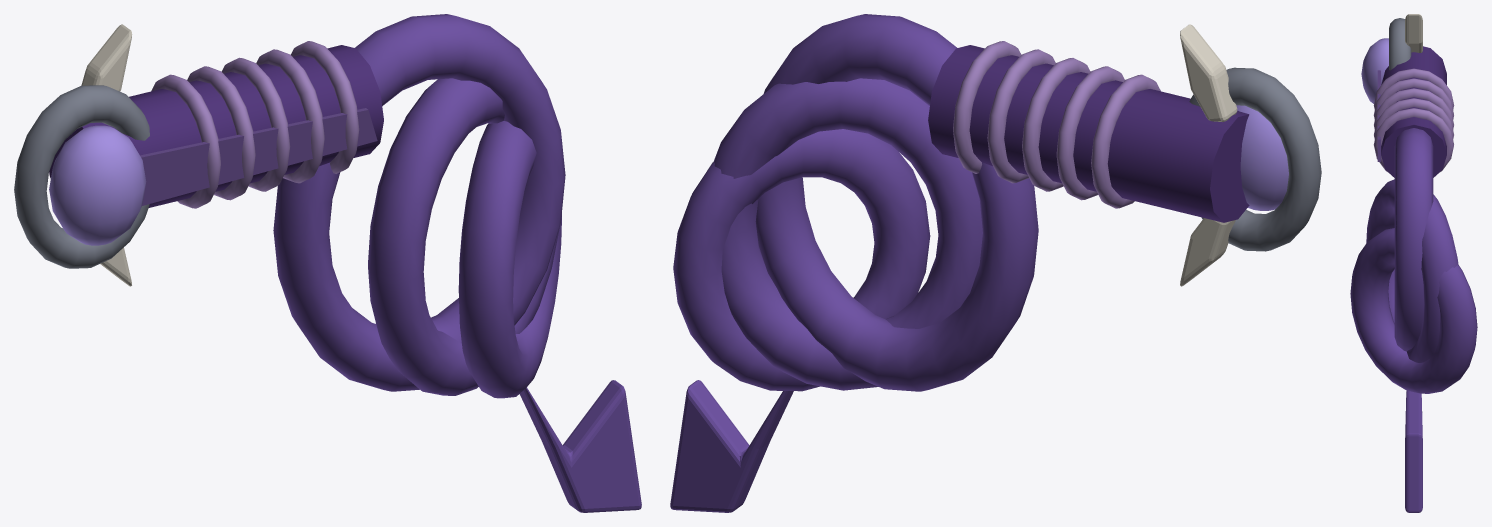
The model's file is wpn_batwhip.glb.
3 renders of one model, left to right at view 1: azimuth 30°, elevation 25°; view 2: azimuth 150°, elevation 25°; view 3: azimuth 270°, elevation 25°, orthographic. The views are drawn at different scales.
Visible parts, largest first — view 1: object 1, torus.003, torus.002, torus.001, torus, torus.004; view 2: object 1, torus, torus.003, torus.002, torus.001, torus.004; view 3: object 1, torus.004, torus.001, torus.002, torus.003, torus.
Part boxes in pixels (x1,y1,x2,y2): object 1: (14, 14, 641, 512); torus.003: (256, 49, 324, 183); torus.002: (221, 57, 290, 191); torus.001: (187, 66, 255, 200); torus: (151, 74, 220, 208); torus.004: (291, 41, 359, 173); object 1: (670, 14, 1321, 512); torus: (1091, 74, 1160, 208); torus.003: (987, 49, 1055, 183); torus.002: (1022, 58, 1090, 191); torus.001: (1056, 66, 1124, 200); torus.004: (953, 41, 1021, 173); object 1: (1350, 14, 1477, 512); torus.004: (1373, 108, 1453, 171); torus.001: (1373, 78, 1453, 119); torus.002: (1374, 88, 1453, 129); torus.003: (1374, 98, 1453, 139); torus: (1373, 68, 1454, 109).
Size of the model in its own units: 0.6947 by 0.6337 by 0.2065.
